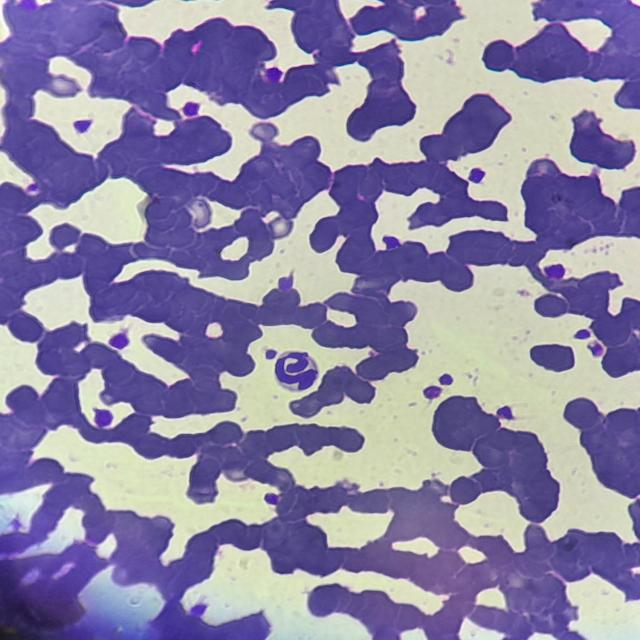Neutrofilo: (276, 351, 318, 391)
